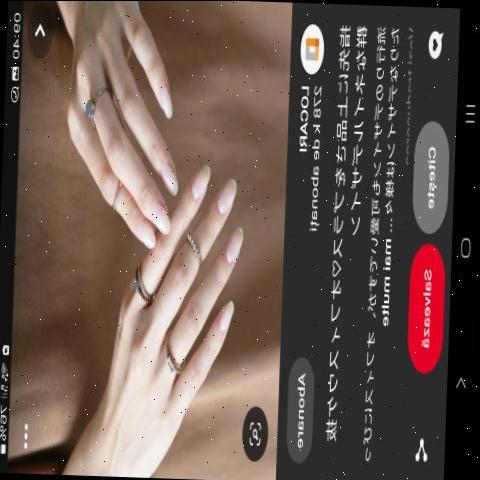Hands: (76, 157, 272, 478), (32, 2, 220, 250)
